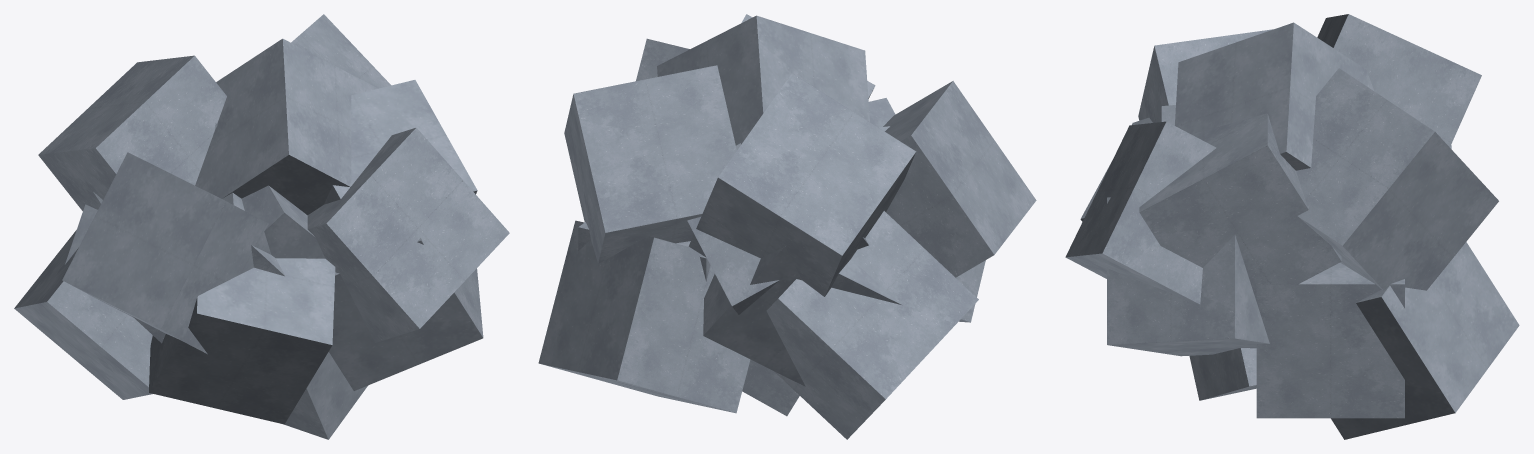
File: asteroid-3.fbx
3 views of the same model, side by side, from view 1: azimuth 30°, elevation 25°; view 2: azimuth 150°, elevation 25°; view 3: azimuth 270°, elevation 25° (orthographic). The views are drawn at different scales.
Parts seen in each view (by area): view 1: mergedBlocks; view 2: mergedBlocks; view 3: mergedBlocks.
Boxes of the visible parts, x1,y1,x2,y2 form: mergedBlocks: [14, 14, 509, 439]; mergedBlocks: [538, 14, 1036, 439]; mergedBlocks: [1065, 14, 1519, 439].
Size of the model in its own units: 31.29 by 28.42 by 30.68.
